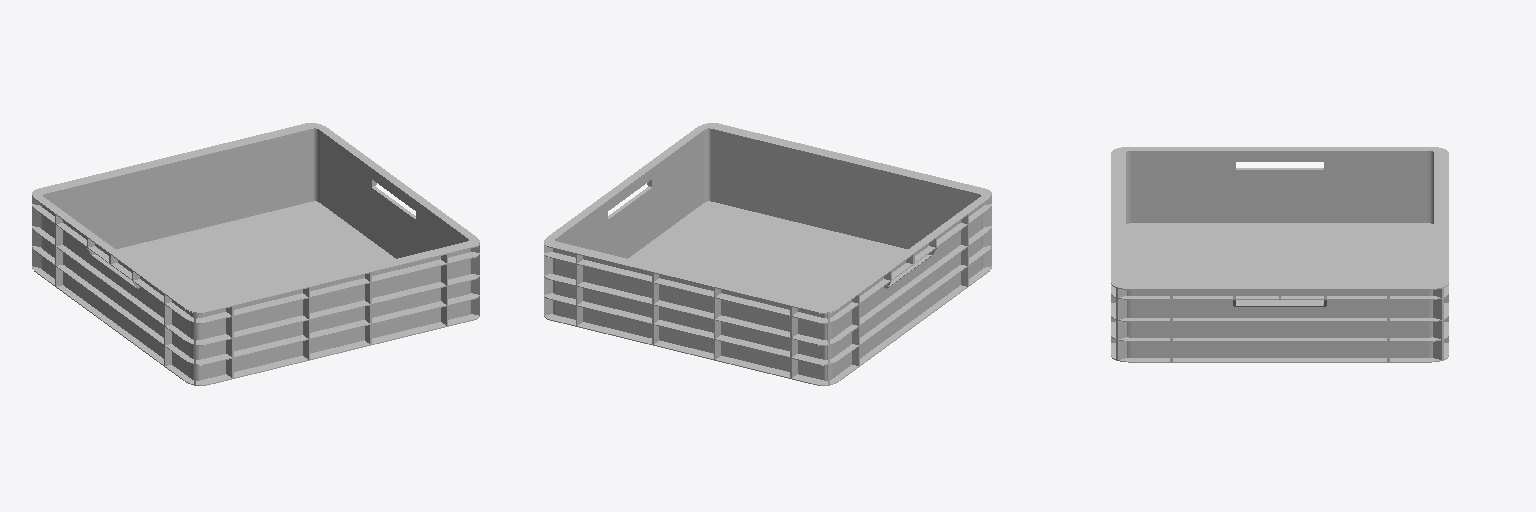
Rendered from bin4.obj.
The picture shows the model from 3 angles: view 1: azimuth 30°, elevation 25°; view 2: azimuth 150°, elevation 25°; view 3: azimuth 270°, elevation 25°; orthographic projection.
Visible parts, largest first — view 1: Storage_Bin_50L.000; view 2: Storage_Bin_50L.000; view 3: Storage_Bin_50L.000.
Part boxes in pixels (bbox=[...]): Storage_Bin_50L.000: bbox=[32, 123, 479, 385]; Storage_Bin_50L.000: bbox=[544, 123, 991, 385]; Storage_Bin_50L.000: bbox=[1111, 147, 1448, 362].
Bounding box in the file's own units: 0.16 × 0.04 × 0.16.